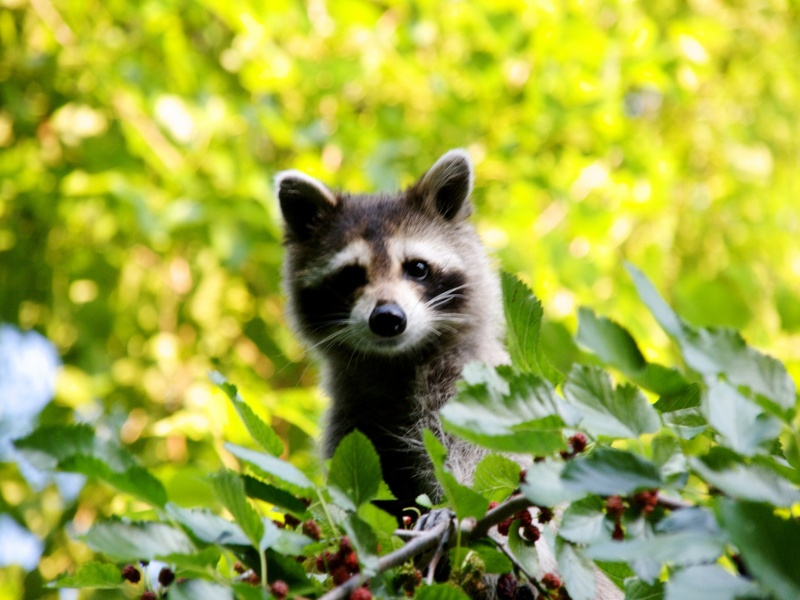raccoon: (271, 151, 541, 519)
